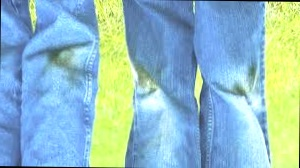earth: (239, 69, 260, 94), (135, 68, 157, 90), (47, 49, 70, 67)
